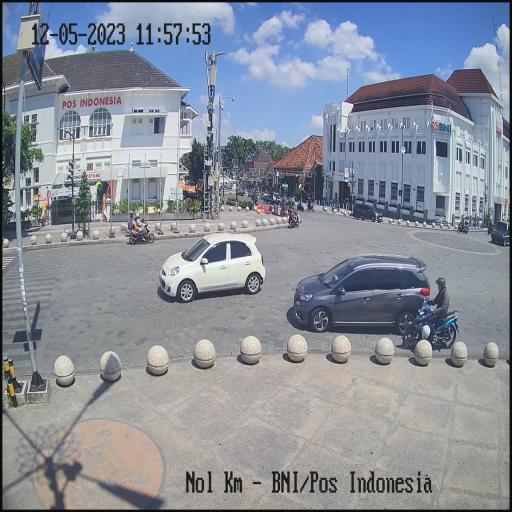mobil: (292, 251, 432, 334), (159, 232, 266, 304)
motor: (403, 292, 459, 355)
